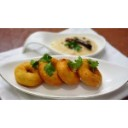vada: (13, 64, 43, 88), (78, 58, 102, 87), (57, 58, 82, 85), (38, 59, 63, 86)
